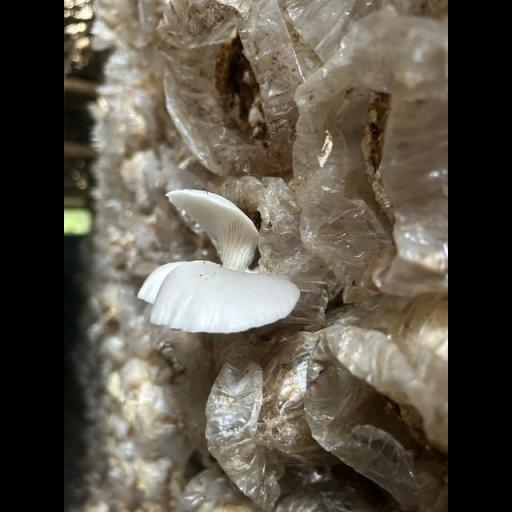White Oyster Mushroom: (128, 177, 307, 352)
